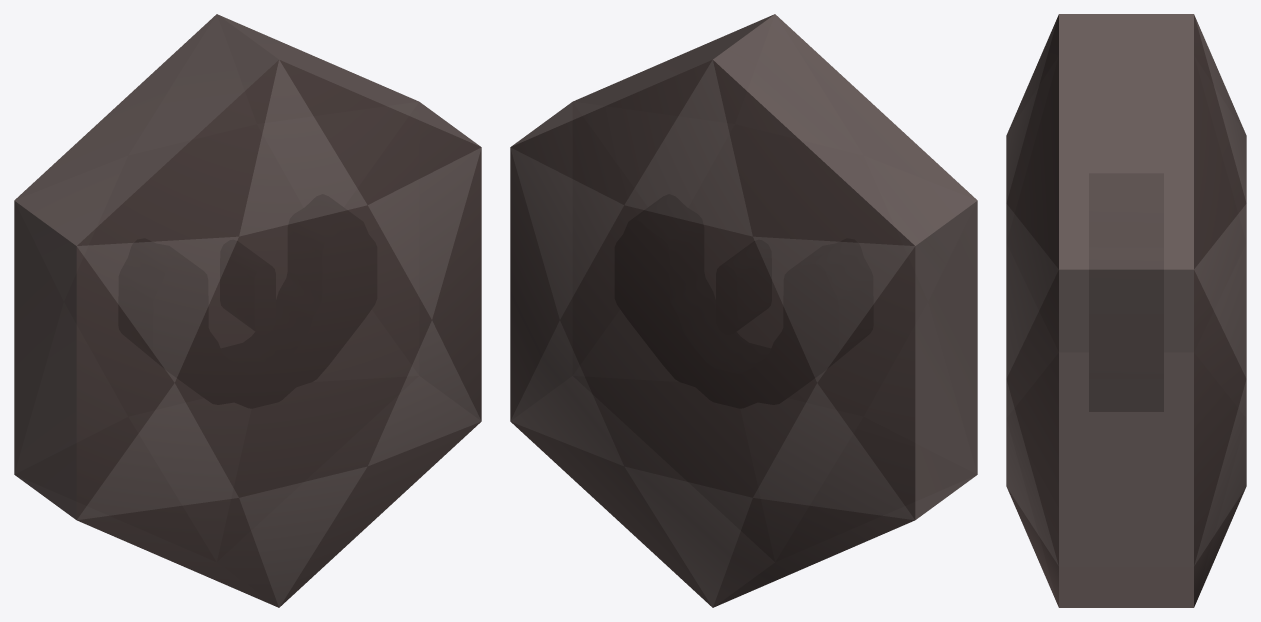
3 views of the same model, side by side, from view 1: azimuth 30°, elevation 25°; view 2: azimuth 150°, elevation 25°; view 3: azimuth 270°, elevation 25° (orthographic). The views are drawn at different scales.
Parts seen in each view (by area): view 1: body; view 2: body; view 3: body.
Boxes of the visible parts, <box> form: body: <box>14,14,481,607</box>; body: <box>510,14,977,607</box>; body: <box>1006,14,1246,607</box>.
Bounding box in the file's own units: 0.1933 × 0.25 × 0.0916.
2 materials, 2 textured.
